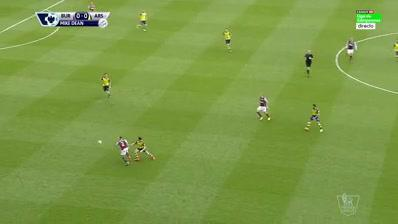futbol: (95, 138, 104, 147)
player: (131, 136, 156, 164), (255, 90, 274, 125), (307, 101, 326, 134), (114, 134, 133, 167), (301, 47, 318, 81), (344, 35, 359, 66), (100, 71, 115, 101), (135, 7, 151, 35), (220, 26, 235, 54), (391, 36, 397, 67)
